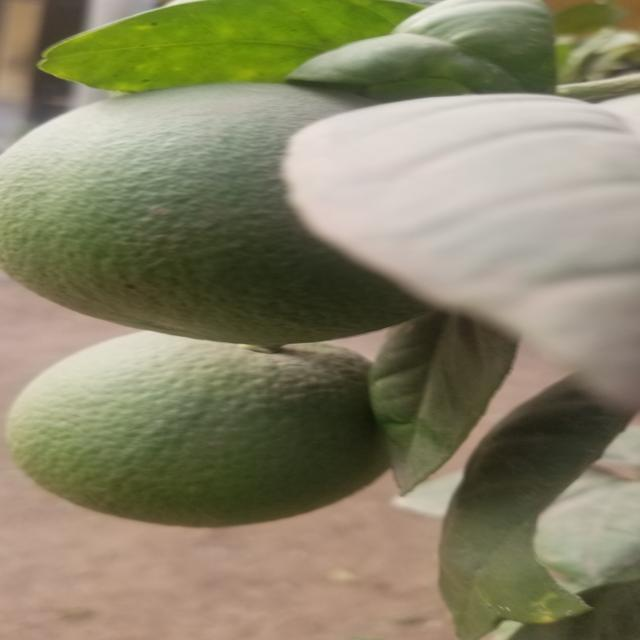Unripe: (0, 86, 441, 337), (0, 331, 398, 525)
